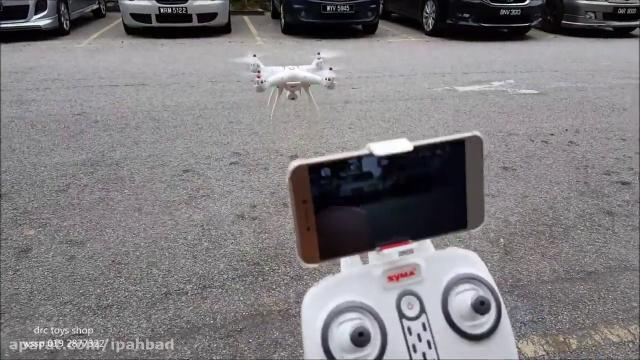drone: (228, 44, 352, 122)
